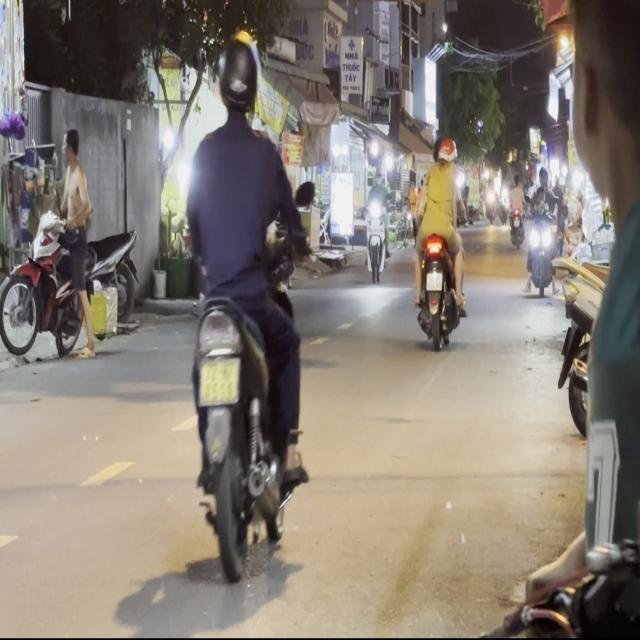helmet: (214, 31, 260, 120), (435, 134, 455, 162)
licenseplate: (179, 29, 311, 579), (1, 122, 104, 366), (410, 130, 467, 348)
motorcyclist: (60, 126, 81, 168)
nohelmet: (199, 356, 239, 403), (426, 272, 442, 290)
